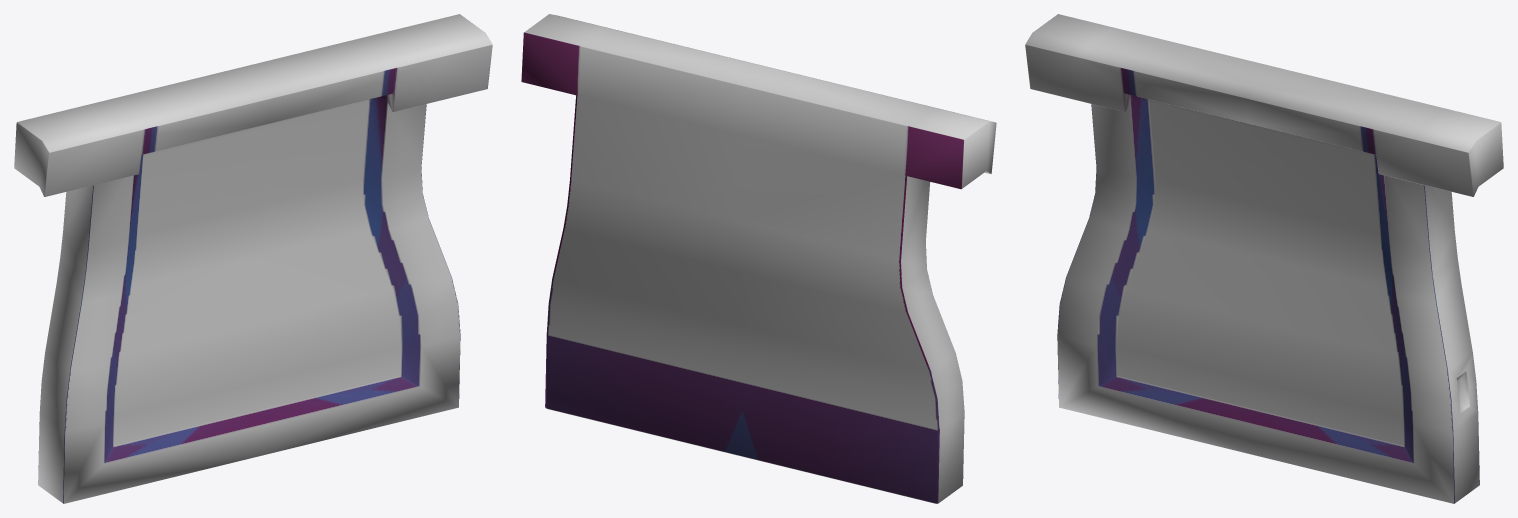
The model's file is monitor.fbx.
3 renders of one model, left to right at view 1: azimuth 30°, elevation 25°; view 2: azimuth 150°, elevation 25°; view 3: azimuth 330°, elevation 25°, orthographic.
Visible parts, largest first — view 1: Monitor_consola; view 2: Monitor_consola; view 3: Monitor_consola.
Boxes of the visible parts, x1,y1,x2,y2 form: Monitor_consola: [14, 14, 492, 503]; Monitor_consola: [521, 14, 996, 503]; Monitor_consola: [1025, 14, 1503, 503].
Bounding box in the file's own units: 26.26 × 21 × 4.33.
2 materials, 2 textured.
